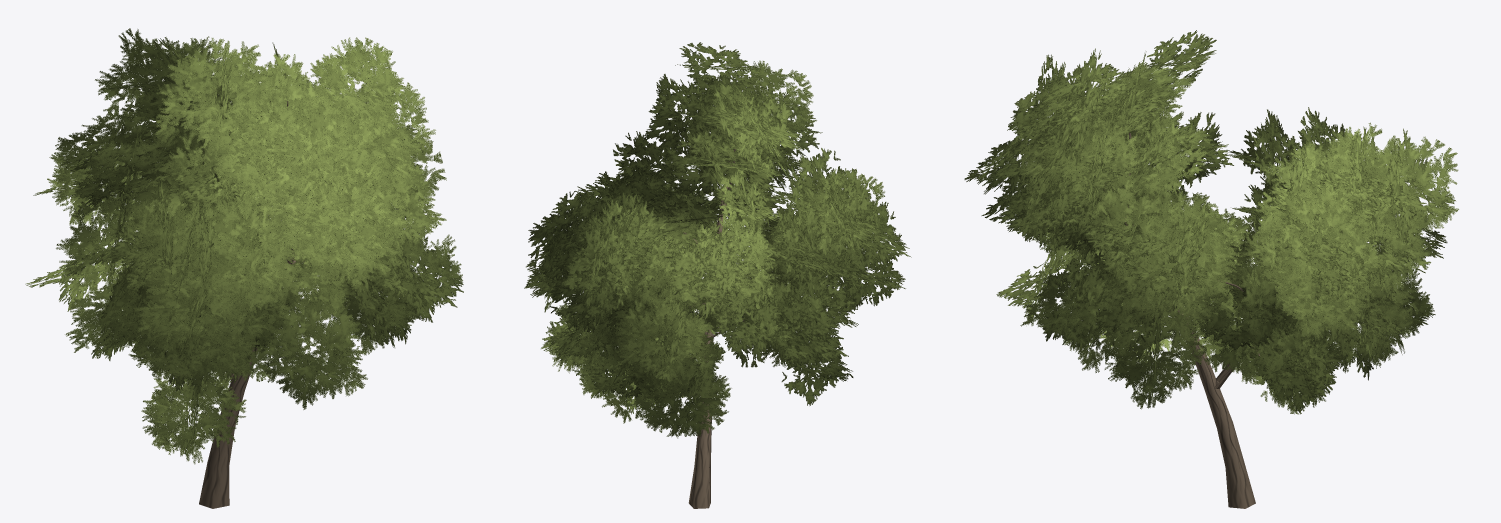
File: sapling-c.lod0.glb
The picture shows the model from 3 angles, left to right: view 1: azimuth 30°, elevation 25°; view 2: azimuth 150°, elevation 25°; view 3: azimuth 270°, elevation 25°; orthographic projection. The views are drawn at different scales.
Visible parts, largest first — view 1: foliage, bark; view 2: foliage, bark; view 3: foliage, bark.
Part boxes in pixels (left/top/right/bottom): foliage: left=25, top=28, right=463, bottom=464; bark: left=199, top=101, right=304, bottom=508; foliage: left=524, top=42, right=911, bottom=438; bark: left=676, top=149, right=816, bottom=508; foliage: left=964, top=30, right=1458, bottom=414; bark: left=1104, top=132, right=1259, bottom=508.
Size of the model in its own units: 1.01 by 1.3 by 1.27.
Materials: 3 (2 with a texture image).
